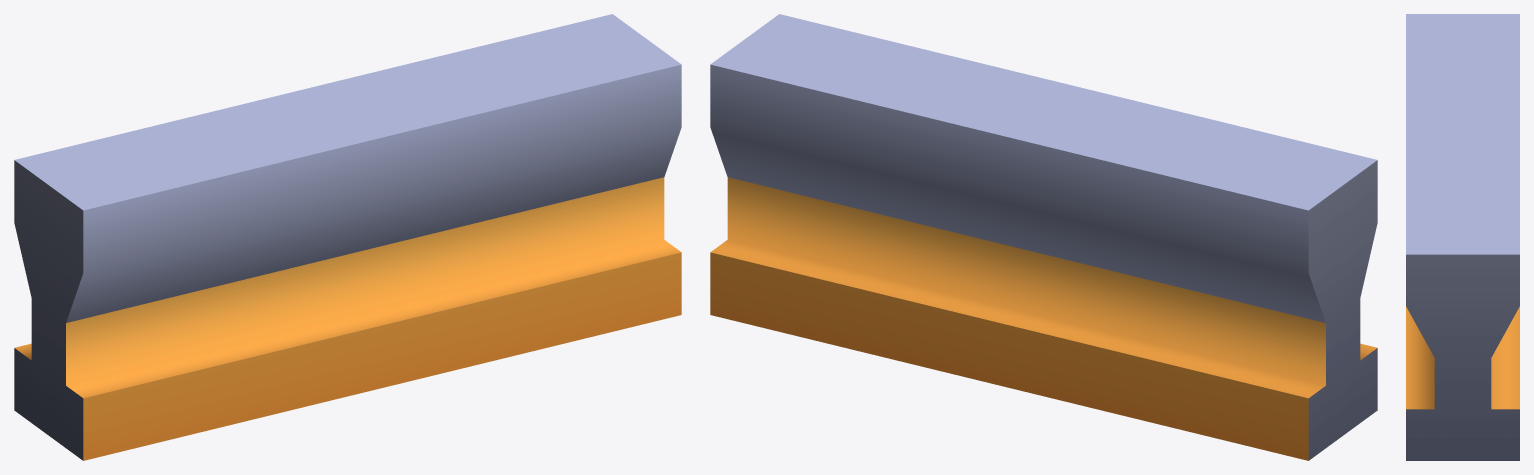
The model's file is kenney-space-station-balcony-rail-center.glb.
3 views of the same model, side by side, from view 1: azimuth 30°, elevation 25°; view 2: azimuth 150°, elevation 25°; view 3: azimuth 270°, elevation 25° (orthographic). The views are drawn at different scales.
Parts seen in each view (by area): view 1: balcony-rail-center; view 2: balcony-rail-center; view 3: balcony-rail-center.
Part boxes in pixels (x1=…): balcony-rail-center: x1=14, y1=14, x2=681, y2=460; balcony-rail-center: x1=710, y1=14, x2=1377, y2=460; balcony-rail-center: x1=1406, y1=14, x2=1519, y2=460.
Size of the model in its own units: 1 by 0.3999 by 0.2.
1 material, 1 textured.
